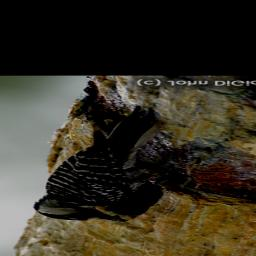Woodpecker: (31, 104, 191, 223)
